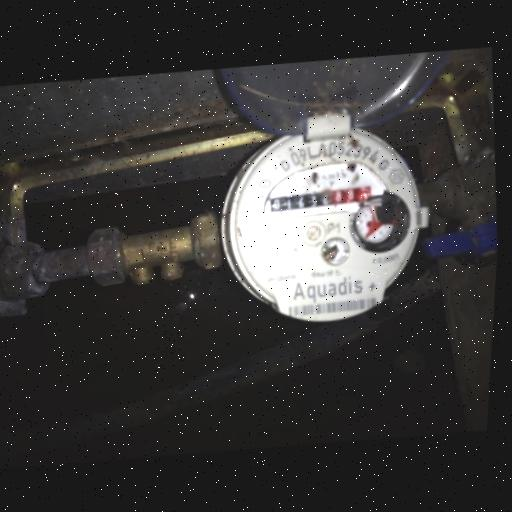0: (271, 195, 283, 212)
1: (283, 194, 295, 210)
3: (307, 191, 319, 207)
4: (321, 189, 332, 205)
6: (295, 193, 307, 209)
8: (344, 185, 357, 201), (333, 187, 345, 203)
border_water_meter_number: (266, 180, 373, 215)
